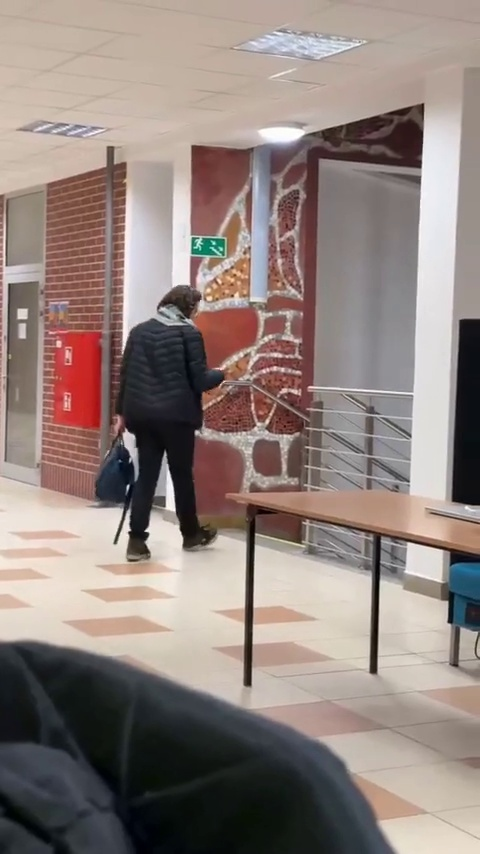no vest: (100, 281, 222, 558)
